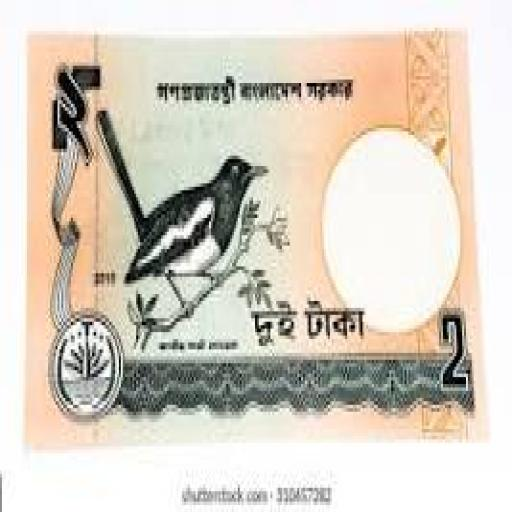2taka: (27, 31, 483, 443)
